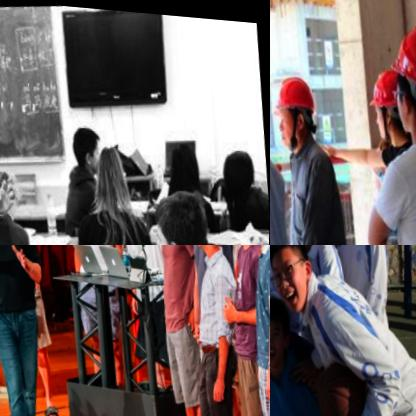head: (148, 175, 218, 245), (270, 245, 318, 308), (92, 133, 133, 196), (216, 139, 258, 195), (68, 115, 104, 173), (167, 134, 203, 190), (270, 286, 297, 360), (0, 156, 19, 215)
helmet: (270, 69, 325, 148), (367, 59, 416, 147), (387, 13, 416, 134)
